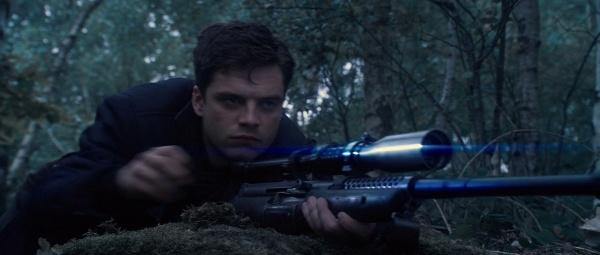rifle: (177, 135, 600, 255)
